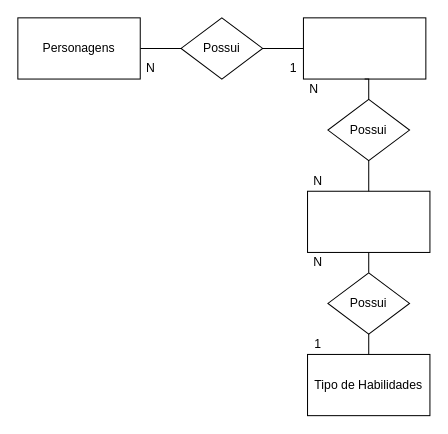
This 448x434 diagram has some shape labels left out. Here are the shapes that lost their labels. From the top down, the centre of each, then its label:
the point at 364,48: Classes
the point at 368,221: Habilidades
